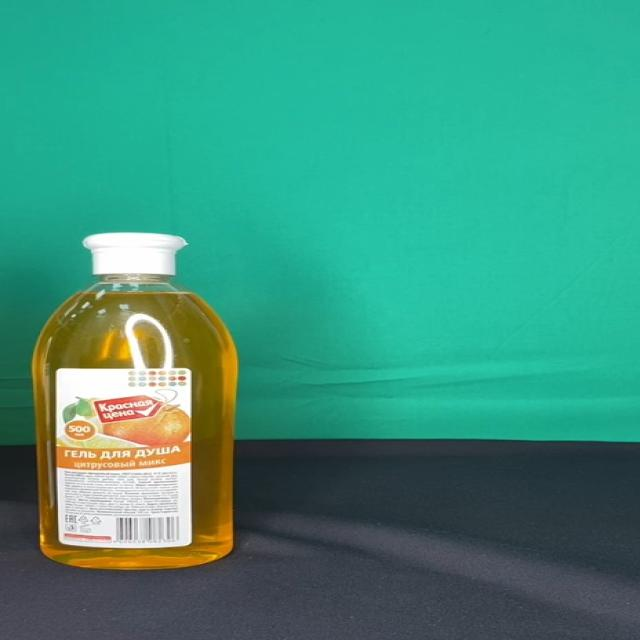Bottle: (30, 232, 241, 569)
Cap: (82, 232, 187, 276)
